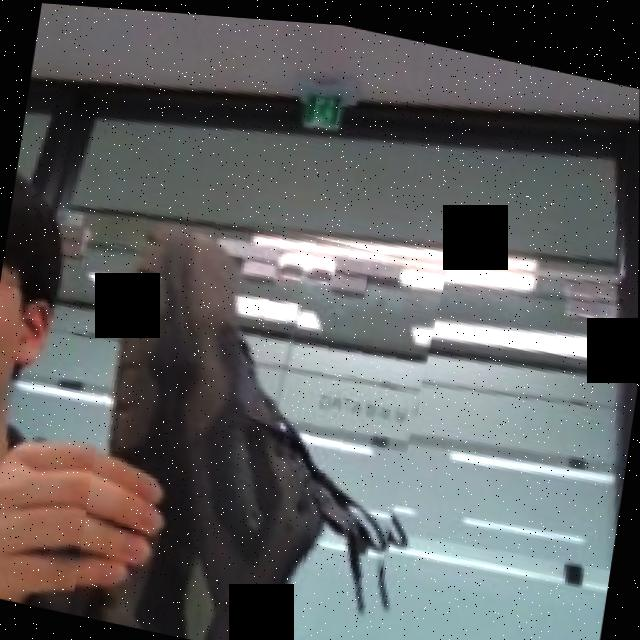shoe: (71, 187, 449, 640)
